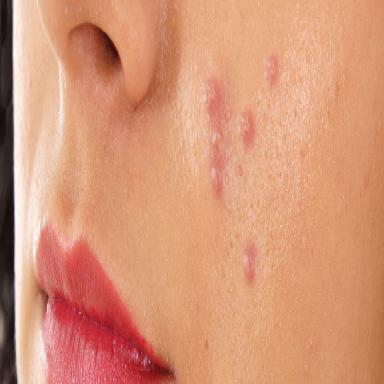acne: (204, 79, 231, 193), (240, 110, 254, 146), (244, 246, 257, 282), (265, 54, 278, 86)
